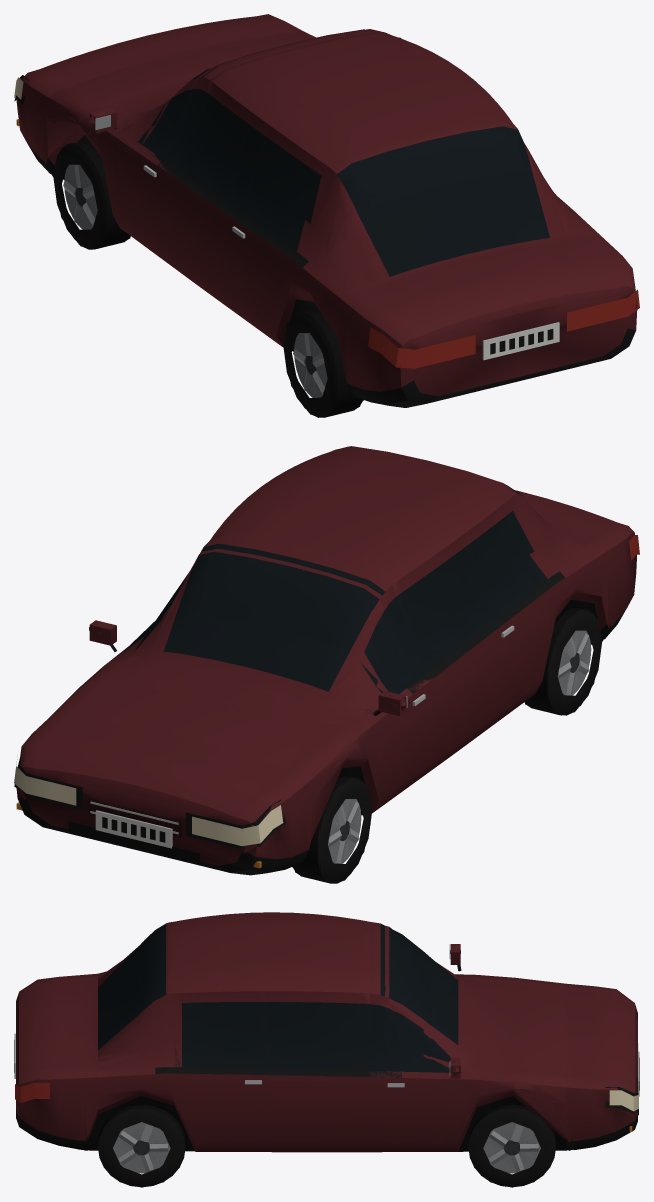
File: saloon.glb
3 renders of one model, top to bottom at view 1: azimuth 30°, elevation 25°; view 2: azimuth 150°, elevation 25°; view 3: azimuth 270°, elevation 25°, orthographic. The views are drawn at different scales.
Visible parts, largest first — view 1: near, distant, far; view 2: near, far, distant; view 3: near, distant, far.
Part boxes in pixels (<box>): near: <box>14,14,639,417</box>; distant: <box>46,29,592,414</box>; far: <box>44,30,637,417</box>; near: <box>14,446,639,883</box>; far: <box>16,461,609,883</box>; distant: <box>50,479,601,880</box>; near: <box>14,912,639,1186</box>; distant: <box>98,912,565,1177</box>; far: <box>16,912,637,1187</box>.
Bounding box in the file's own units: 2.09 × 1.51 × 4.43.
